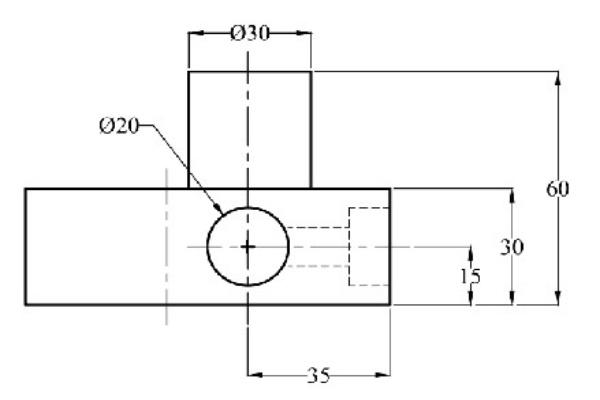dimensions: (226, 19, 273, 45), (92, 113, 145, 135), (536, 176, 577, 201), (494, 231, 531, 258), (304, 363, 335, 387), (458, 266, 485, 286)
